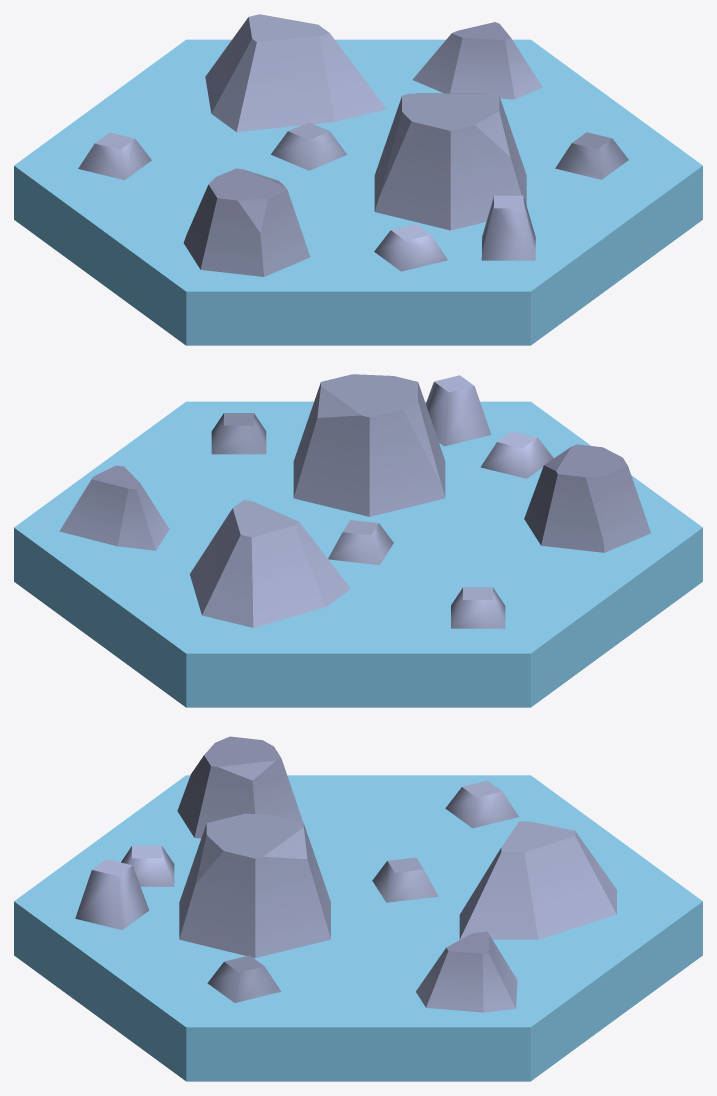
The model's file is kenney-hexagon-water-rocks.glb.
3 views of the same model, one above another, from view 1: azimuth 30°, elevation 25°; view 2: azimuth 150°, elevation 25°; view 3: azimuth 270°, elevation 25° (orthographic).
Visible parts, largest first — view 1: water_rocks; view 2: water_rocks; view 3: water_rocks.
Boxes of the visible parts, x1,y1,x2,y2 form: water_rocks: (14, 14, 702, 345); water_rocks: (14, 374, 702, 707); water_rocks: (14, 736, 702, 1081).
Size of the model in its own units: 1 by 0.2594 by 1.15.
1 material, 1 textured.
